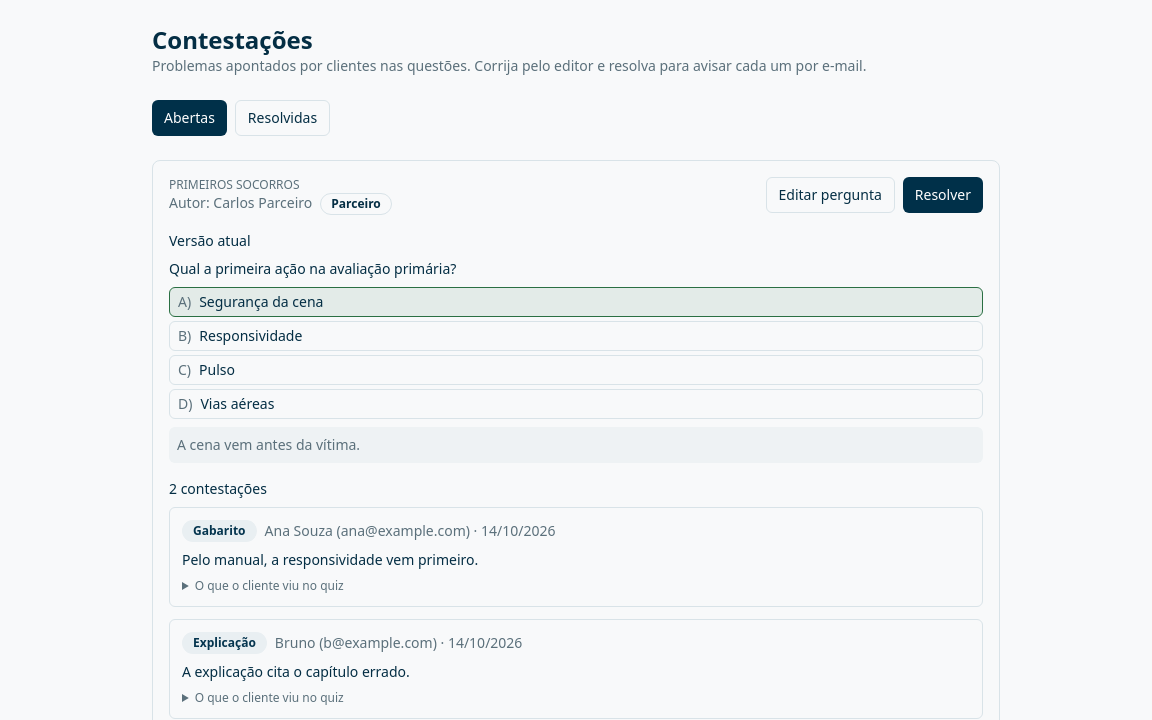
QuestionReportsPage (QUIZ-RF-011) › aba Resolvidas consulta com status=resolved e esconde as ações
Expected: the heading "2 contestações" is shown, [169,479,267,498]
Click the button "Resolvidas" at (283, 118), box [235,100,330,136]
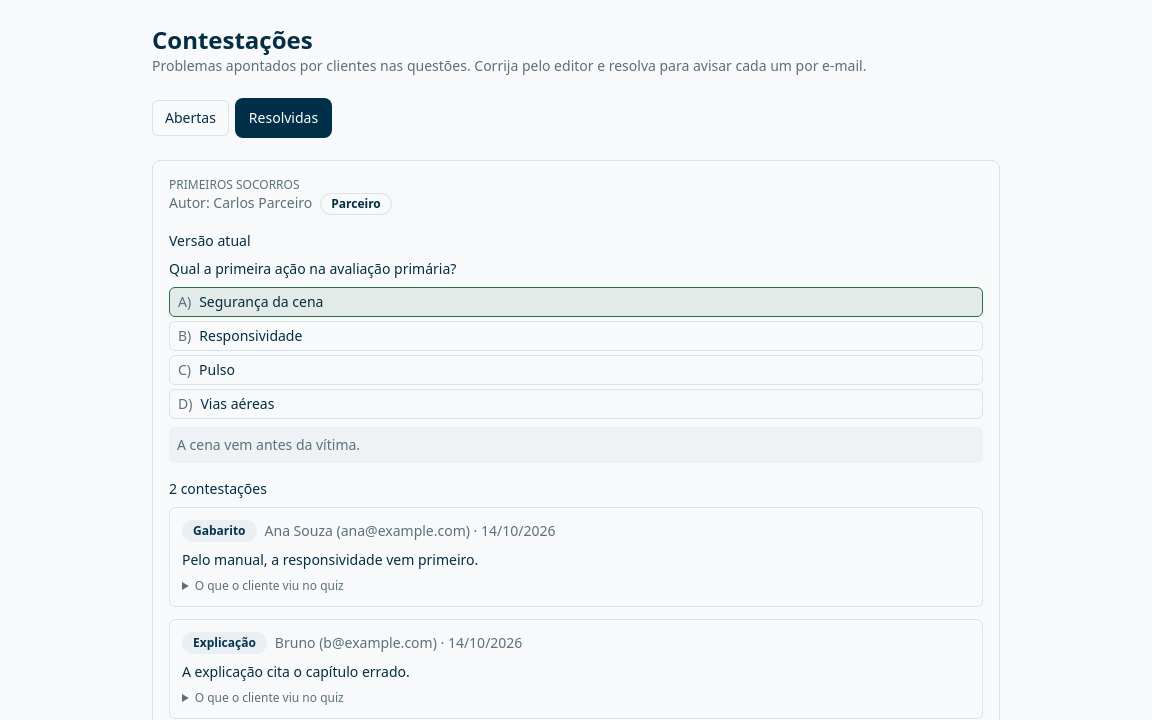
Result: the button "Editar pergunta" is gone
